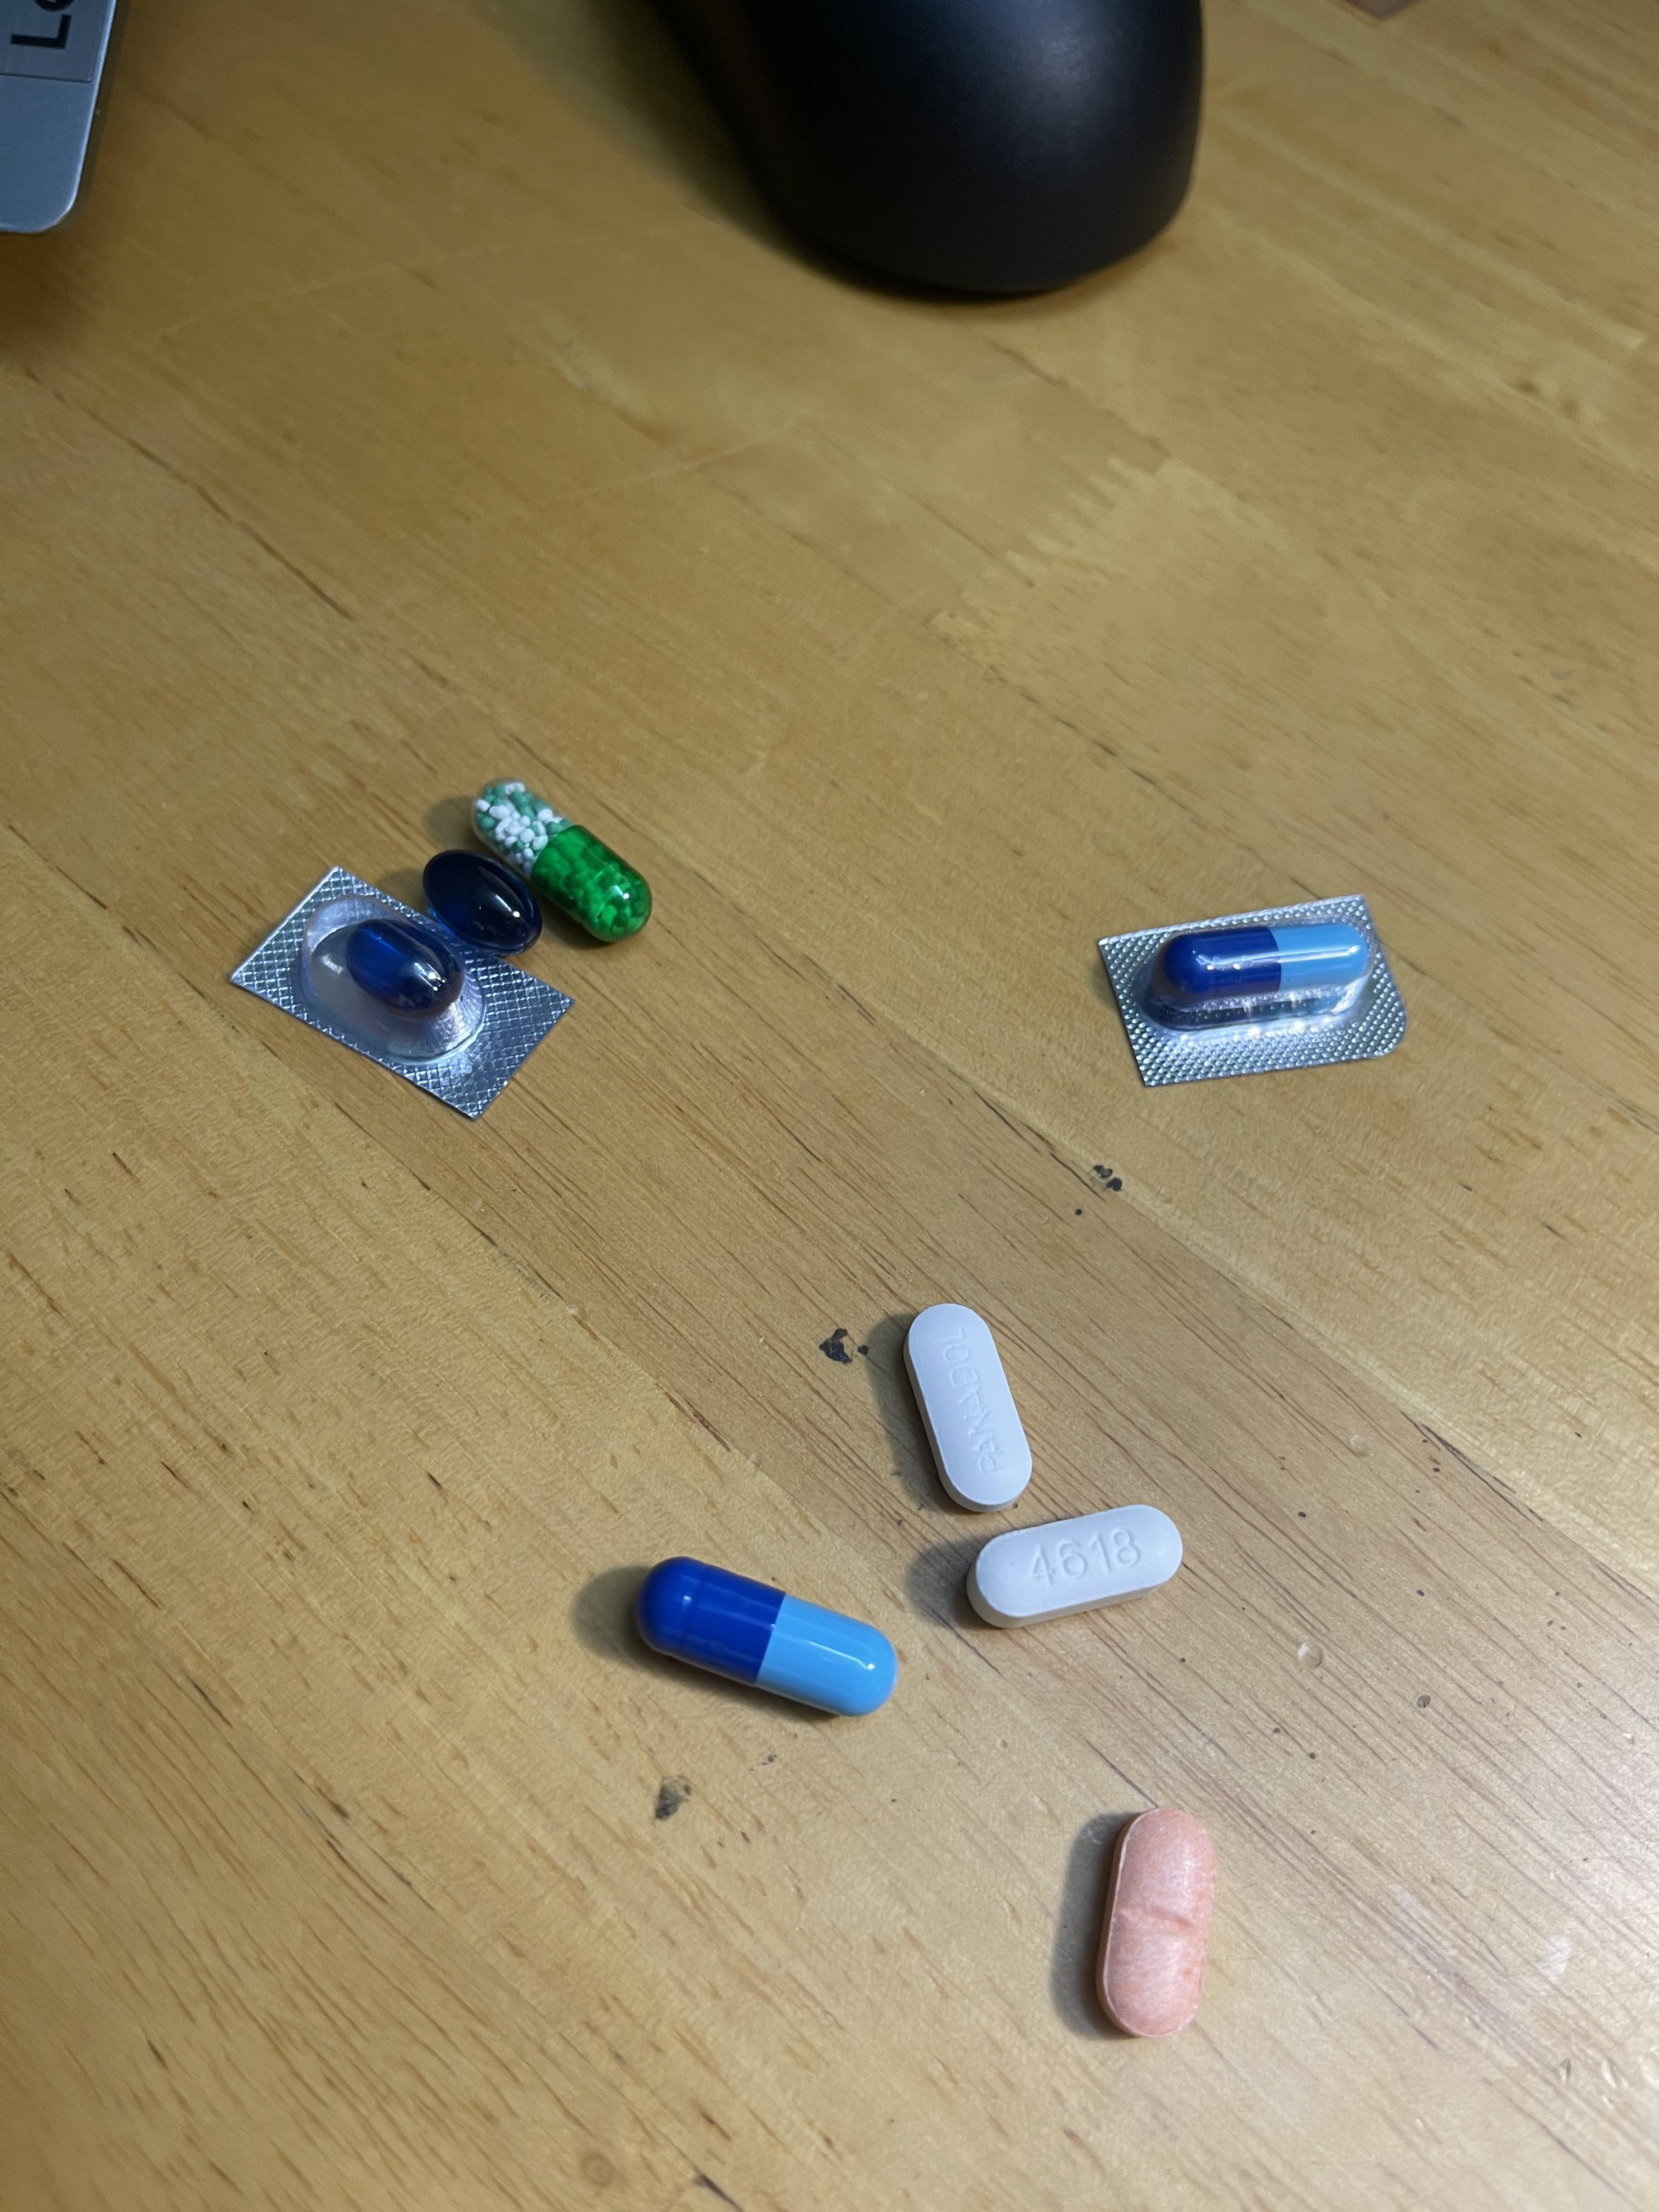Lincomyxin_500mg: (422, 848, 535, 946), (345, 921, 455, 1012)
Loratadine_10mg: (1094, 1806, 1220, 2040)
Paracetamol_350mg: (906, 1301, 1030, 1507)
Paracetamol_500mg: (972, 1501, 1175, 1622)
Paracetamol_650mg: (472, 780, 647, 939)
pill: (640, 1561, 892, 1714), (1155, 923, 1368, 1015)
